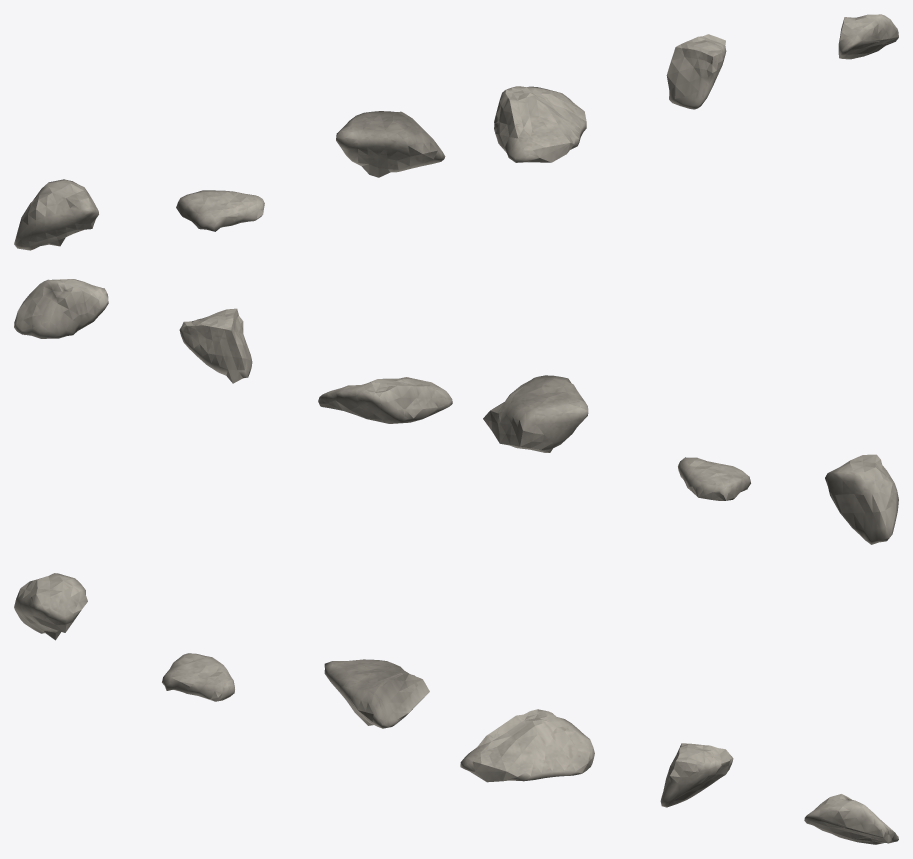
The model's file is river_rock_worn_kit.glb.
The picture shows the model from 3 angles, top to bottom: view 1: azimuth 30°, elevation 25°; view 2: azimuth 150°, elevation 25°; view 3: azimuth 330°, elevation 25°; orthographic projection.
Parts seen in each view (by area): view 1: river_rock_worn_04, river_rock_worn_03, river_rock_worn_01, river_rock_worn_05, river_rock_worn_02, river_rock_worn_06; view 2: river_rock_worn_03, river_rock_worn_01, river_rock_worn_04, river_rock_worn_06, river_rock_worn_05, river_rock_worn_02; view 3: river_rock_worn_04, river_rock_worn_03, river_rock_worn_01, river_rock_worn_05, river_rock_worn_06, river_rock_worn_02.
Part boxes in pixels (x1=…): river_rock_worn_04: x1=494, y1=86, x2=586, y2=162; river_rock_worn_03: x1=336, y1=111, x2=445, y2=177; river_rock_worn_01: x1=14, y1=179, x2=98, y2=250; river_rock_worn_05: x1=666, y1=34, x2=726, y2=109; river_rock_worn_02: x1=176, y1=190, x2=264, y2=231; river_rock_worn_06: x1=838, y1=14, x2=898, y2=59; river_rock_worn_03: x1=483, y1=375, x2=588, y2=452; river_rock_worn_01: x1=825, y1=454, x2=898, y2=544; river_rock_worn_04: x1=318, y1=377, x2=452, y2=423; river_rock_worn_06: x1=14, y1=279, x2=108, y2=338; river_rock_worn_05: x1=179, y1=308, x2=252, y2=383; river_rock_worn_02: x1=678, y1=457, x2=750, y2=500; river_rock_worn_04: x1=460, y1=709, x2=594, y2=782; river_rock_worn_03: x1=324, y1=659, x2=429, y2=728; river_rock_worn_01: x1=14, y1=573, x2=87, y2=640; river_rock_worn_05: x1=660, y1=743, x2=733, y2=807; river_rock_worn_06: x1=804, y1=794, x2=898, y2=844; river_rock_worn_02: x1=162, y1=653, x2=234, y2=701.
Bounding box in the file's own units: 6.52 × 0.4769 × 0.6508.
1 material, 1 textured.
